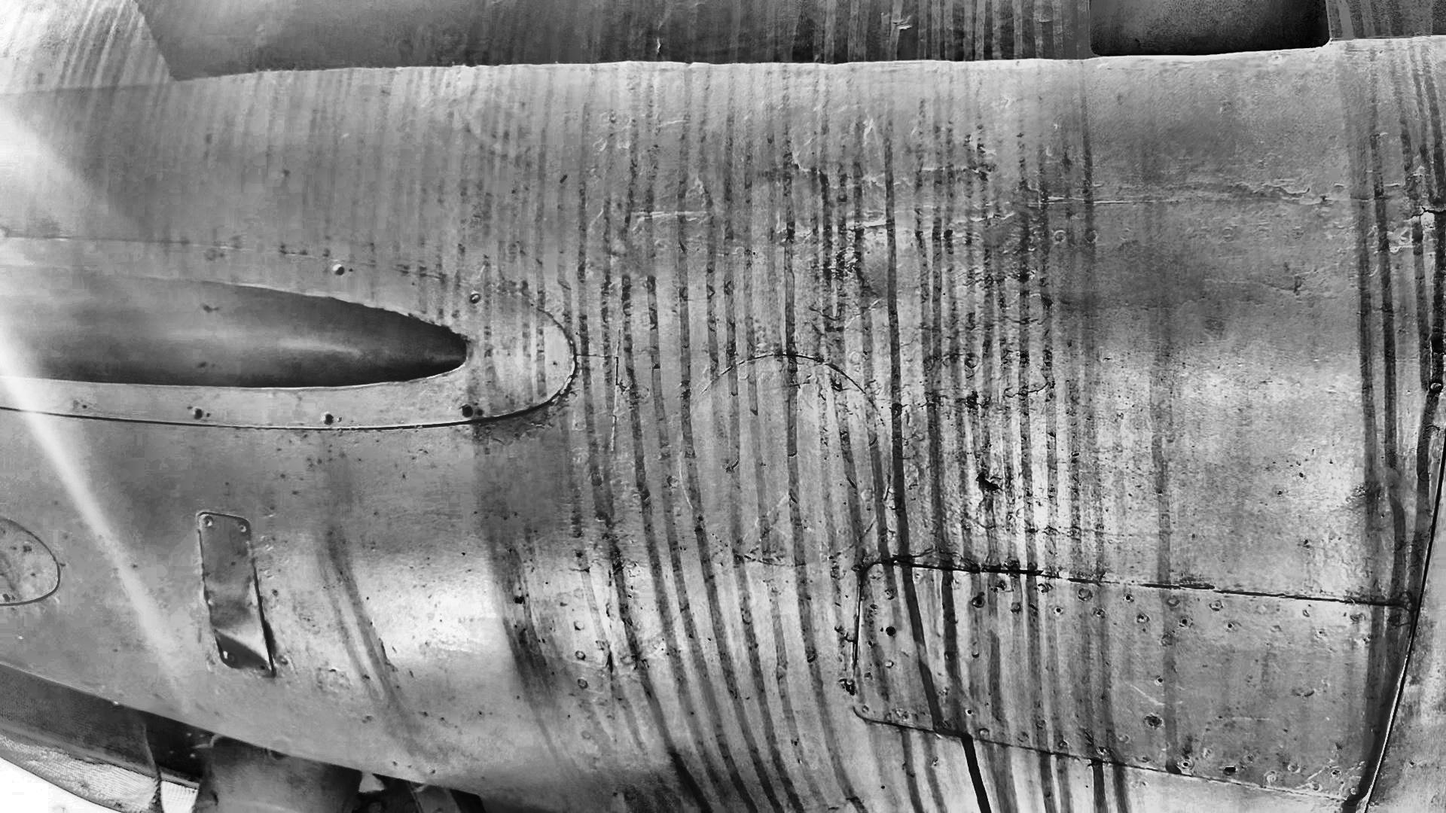crack: (1410, 206, 1446, 218)
dent: (215, 630, 271, 668)
missing-head: (334, 263, 348, 277), (469, 290, 482, 305), (192, 408, 206, 420), (462, 405, 474, 418), (324, 414, 335, 427), (1053, 605, 1063, 616), (1180, 616, 1190, 626), (975, 597, 983, 606), (1125, 593, 1132, 603)
paint-peel-off: (521, 404, 549, 425), (979, 474, 997, 491)
